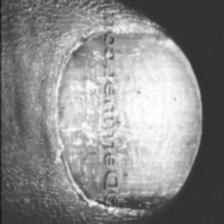Toxin: (57, 33, 191, 214)
